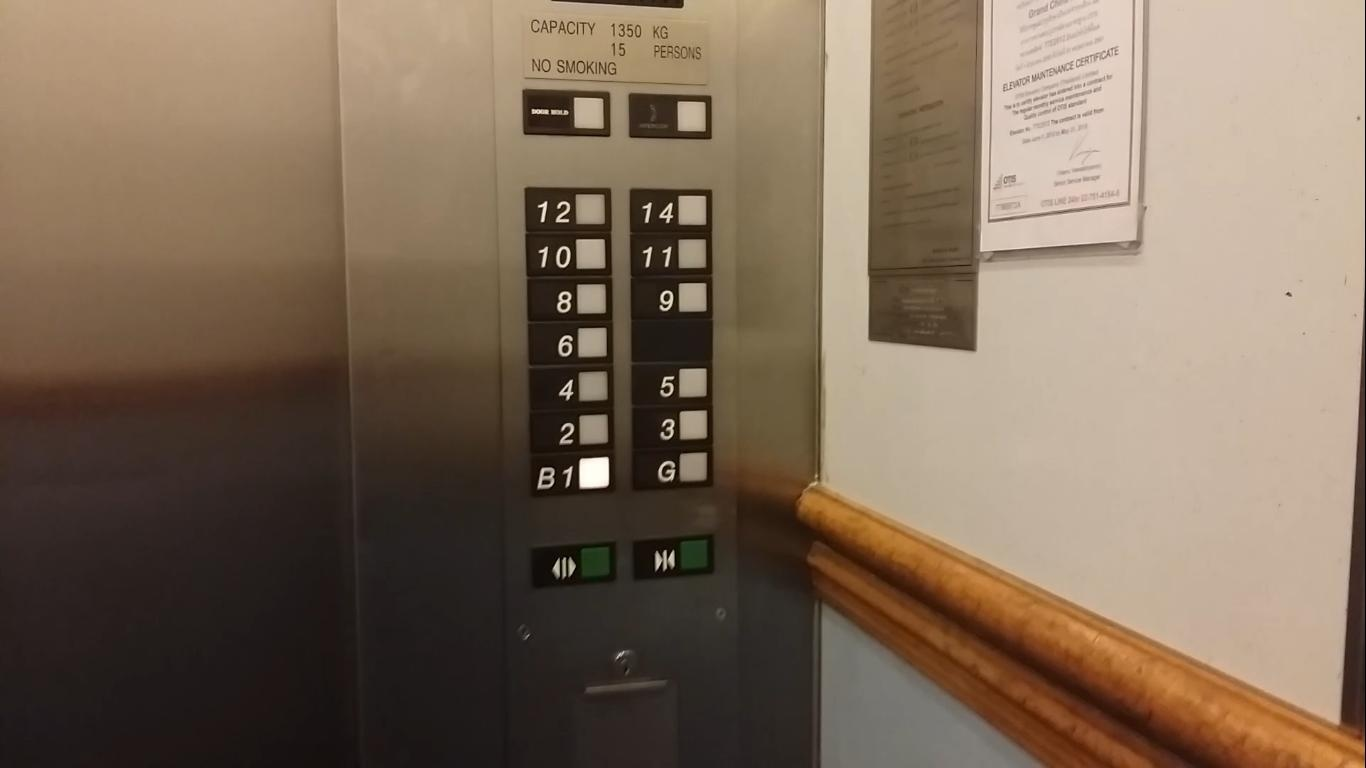10: (523, 232, 614, 279)
11: (628, 229, 714, 280)
12: (523, 186, 614, 233)
14: (627, 186, 714, 237)
2: (528, 406, 616, 456)
3: (631, 400, 717, 451)
4: (526, 361, 615, 413)
5: (629, 356, 715, 407)
6: (525, 317, 614, 369)
8: (523, 274, 614, 321)
9: (629, 272, 715, 323)
B1: (529, 449, 617, 499)
G: (631, 443, 717, 494)
close: (631, 533, 717, 584)
keyhole: (614, 651, 638, 677)
open: (529, 539, 615, 590)
text: (519, 86, 612, 139), (626, 90, 714, 141)
